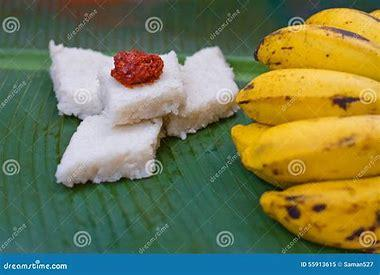Kiribath: (47, 31, 230, 213)
Lunu sambol: (113, 43, 165, 95)
